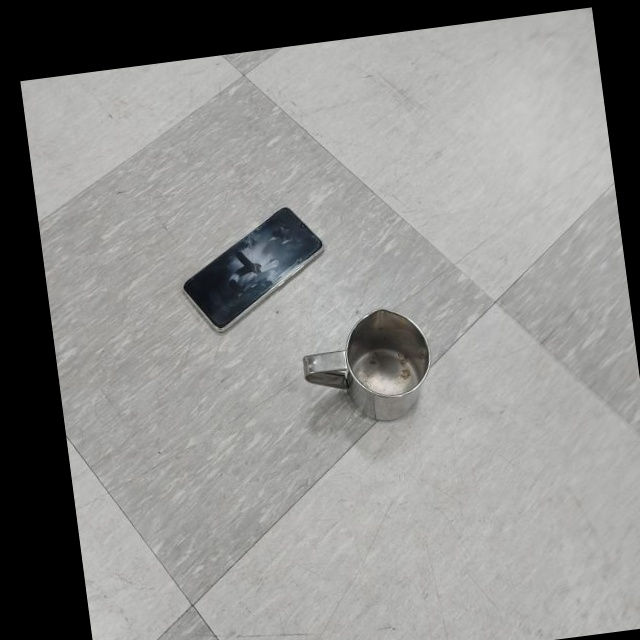cup: (295, 303, 440, 434)
phone: (170, 201, 337, 339)
